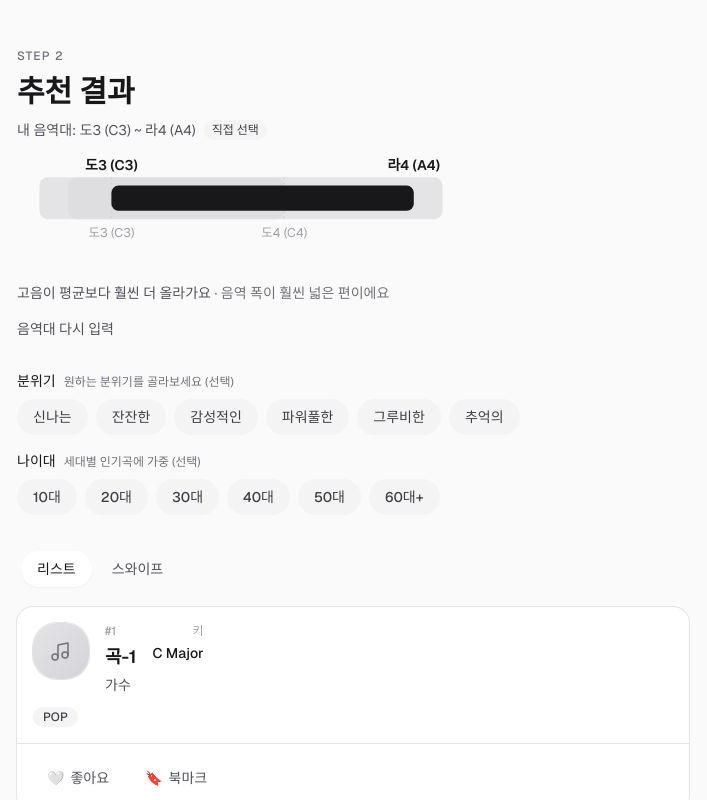
Scenario: RecommendPage › '스와이프' 토글 시 한 곡씩 카드(덱)로 전환되고 진행 표시가 보인다
Expected: the heading "곡-1" is shown, [105, 643, 136, 671]
Click the radio button labelled "스와이프". click: [137, 569]
box: [96, 551, 179, 587]
(page scrolled)
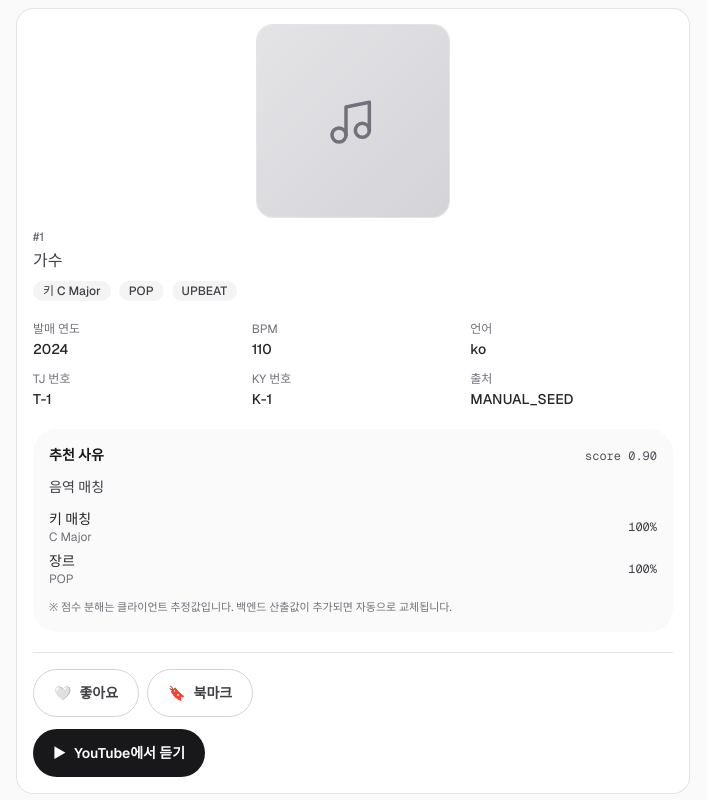
Expected: the element with test id "swipe-card" is shown
